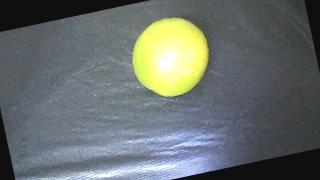LOCAL: (125, 11, 217, 103)
